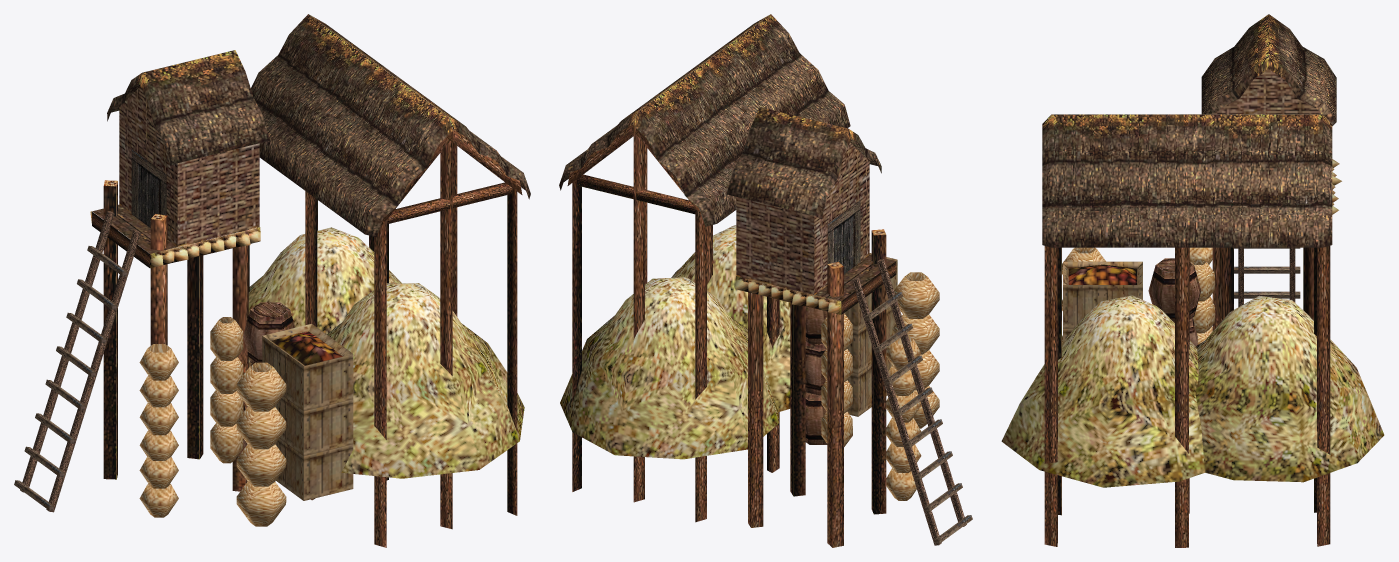
Rendered from granja.glb.
3 renders of one model, left to right at view 1: azimuth 30°, elevation 25°; view 2: azimuth 150°, elevation 25°; view 3: azimuth 270°, elevation 25°, orthographic. The views are drawn at different scales.
Visible parts, largest first — view 1: Granja, Cosas; view 2: Granja, Cosas; view 3: Granja, Cosas.
Boxes of the visible parts, x1=… form: Granja: x1=90, y1=14, x2=530, y2=547; Cosas: x1=14, y1=149, x2=524, y2=526; Granja: x1=559, y1=14, x2=897, y2=547; Cosas: x1=560, y1=200, x2=972, y2=545; Granja: x1=1042, y1=14, x2=1341, y2=547; Cosas: x1=1001, y1=247, x2=1384, y2=487.
Size of the model in its own units: 6.31 by 6.22 by 5.29.
Materials: 2 (2 with a texture image).
